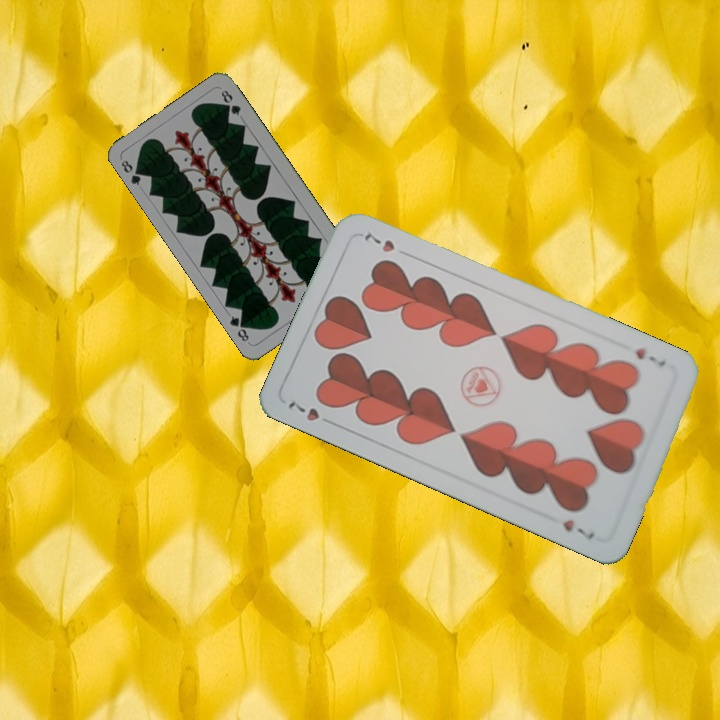G8: (117, 156, 146, 188)
H7: (284, 397, 338, 429), (631, 344, 669, 370)
